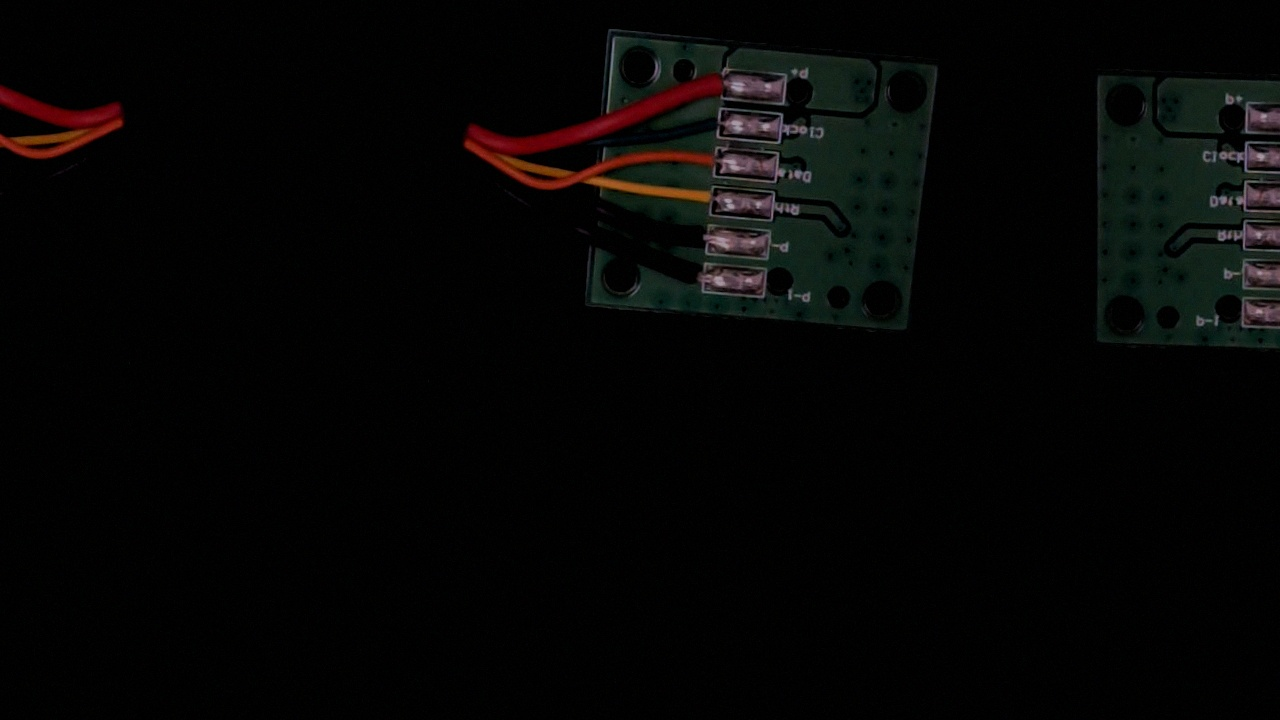Black: (661, 220, 726, 256)
Black1: (652, 256, 724, 295)
Green: (677, 105, 737, 143)
Orange: (670, 142, 733, 174)
Red: (681, 66, 739, 102)
Yellow: (665, 182, 731, 217)
